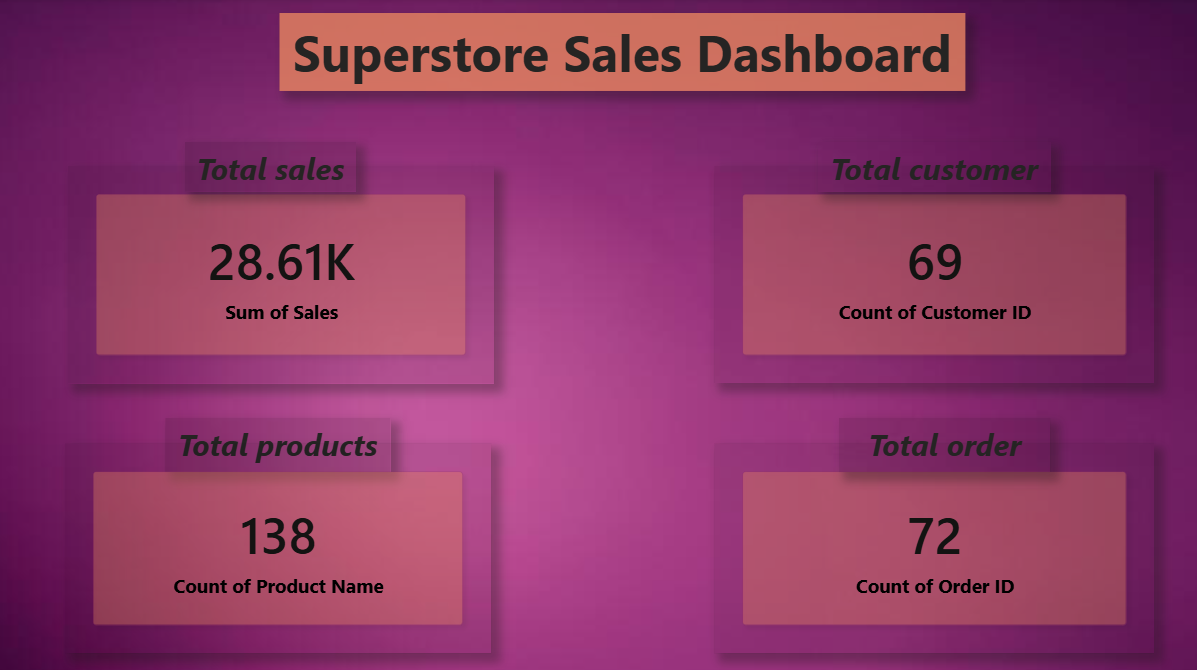

What the dashboard file says about the page in this screenshot:
{"tool":"powerbi","page":{"name":"Page 2","canvas":[1280,720],"ordinal":1},"visuals":[{"type":"cardVisual","fields":{"Data":["Sum(sales_data_clean.Sales)"]},"box":[76.3,178.1,451.7,230.6],"z":0},{"type":"textbox","box":[200.4,152.7,181.3,52.5],"z":1000},{"type":"cardVisual","fields":{"Data":["Count(sales_data_clean.Customer ID)"]},"box":[762,178.1,466,230],"z":2000},{"type":"textbox","box":[179.7,445.4,238.6,57.3],"z":3000},{"type":"cardVisual","fields":{"Data":["Count(sales_data_clean.Product Name)"]},"box":[73.2,472.4,451.7,222.7],"z":4000},{"type":"cardVisual","fields":{"Data":["Count(sales_data_clean.Order ID)"]},"box":[761.9,472.4,466,222.7],"z":5000},{"type":"textbox","box":[301.2,16.2,727,82.6],"z":6000},{"type":"textbox","box":[893.9,445.4,224.3,57.3],"z":7000},{"type":"textbox","box":[871.7,152.7,246.5,52.5],"z":8000}]}

Visuals, with their boxes in screenshot pixels (x1, y1, x2, y2), scaled from the page's 1280x720 canvas onto the 1197x670 screenshot:
cardVisual - Sum(sales_data_clean.Sales): <box>71,166,494,380</box>
textbox: <box>187,142,357,191</box>
cardVisual - Count(sales_data_clean.Customer ID): <box>713,166,1148,380</box>
textbox: <box>168,414,391,468</box>
cardVisual - Count(sales_data_clean.Product Name): <box>68,440,491,647</box>
cardVisual - Count(sales_data_clean.Order ID): <box>712,440,1148,647</box>
textbox: <box>282,15,962,92</box>
textbox: <box>836,414,1046,468</box>
textbox: <box>815,142,1046,191</box>
